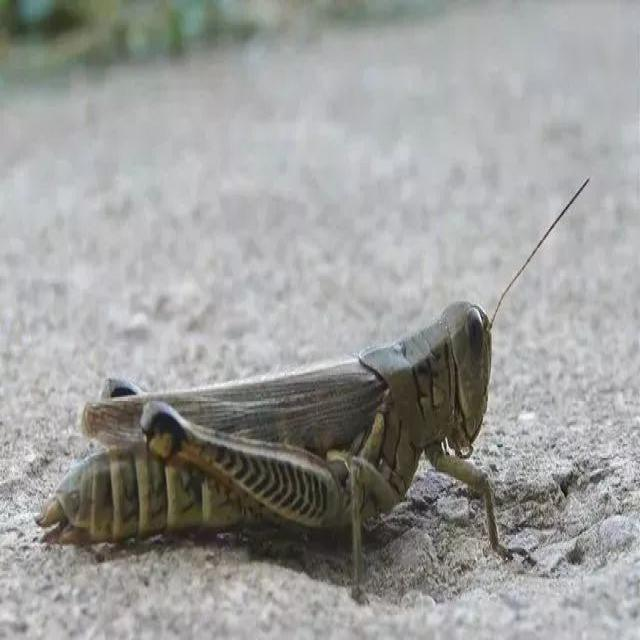ZhaMeng: (18, 279, 565, 577)
